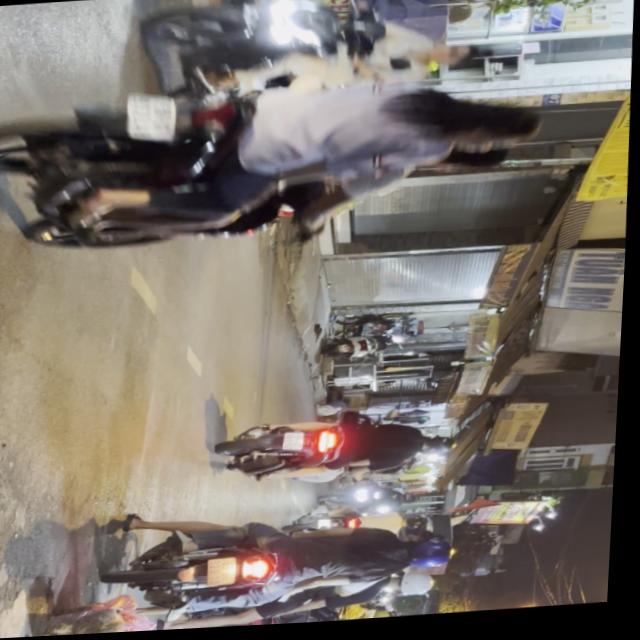helmet: (409, 540, 460, 571), (399, 573, 442, 602), (425, 437, 458, 456)
licenseplate: (0, 62, 552, 263), (109, 498, 468, 634), (130, 0, 493, 106), (219, 411, 464, 491)
motorcyclist: (439, 99, 545, 154), (432, 45, 482, 72)
nohelmet: (128, 92, 179, 144), (213, 559, 243, 587), (288, 434, 310, 453)
